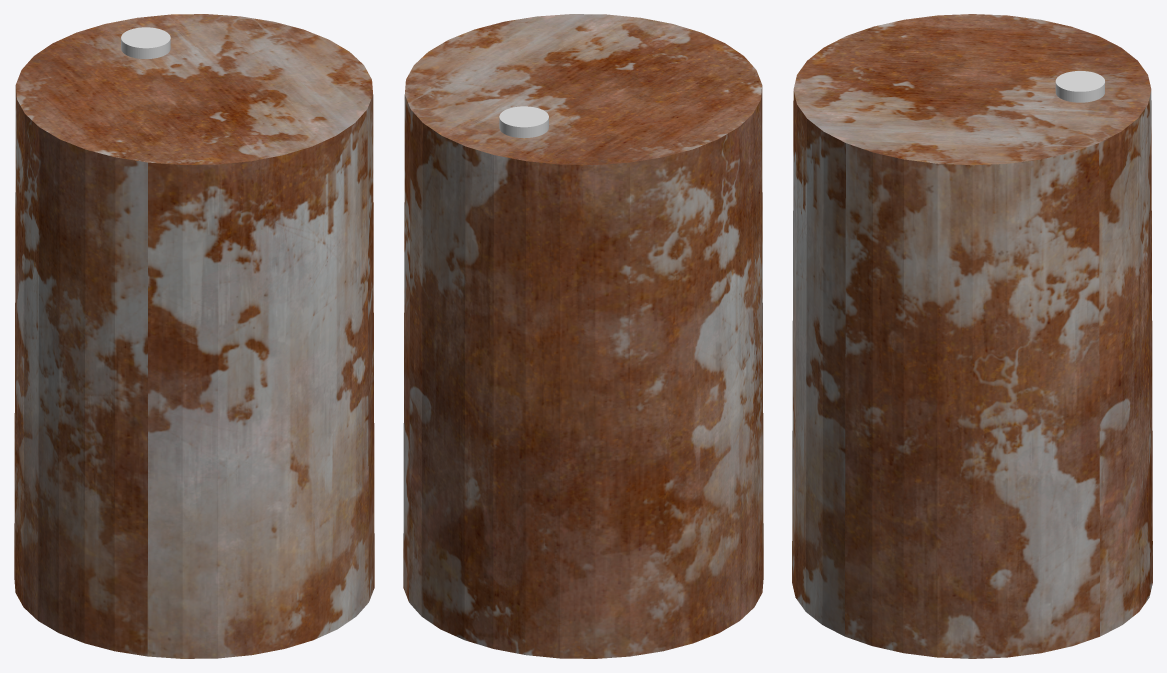
Rendered from Beczka.fbx.
3 views of the same model, side by side, from view 1: azimuth 30°, elevation 25°; view 2: azimuth 150°, elevation 25°; view 3: azimuth 270°, elevation 25° (orthographic).
Parts seen in each view (by area): view 1: Cylinder; view 2: Cylinder; view 3: Cylinder.
Boxes of the visible parts, x1=… form: Cylinder: x1=14, y1=14, x2=374, y2=658; Cylinder: x1=403, y1=14, x2=763, y2=658; Cylinder: x1=792, y1=14, x2=1152, y2=658.
Size of the model in its own units: 58.34 by 89.88 by 58.34.
